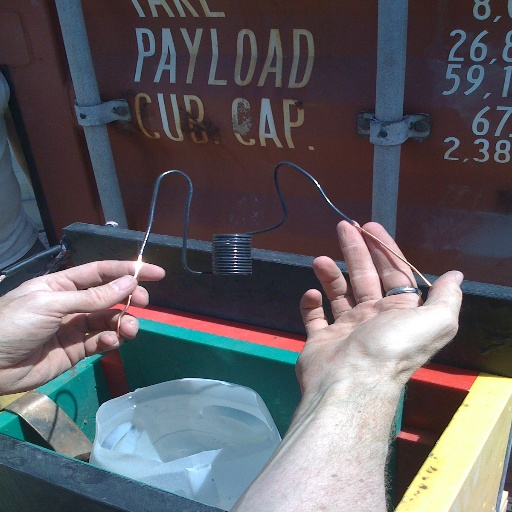hand: (292, 220, 465, 389), (0, 260, 163, 394)
